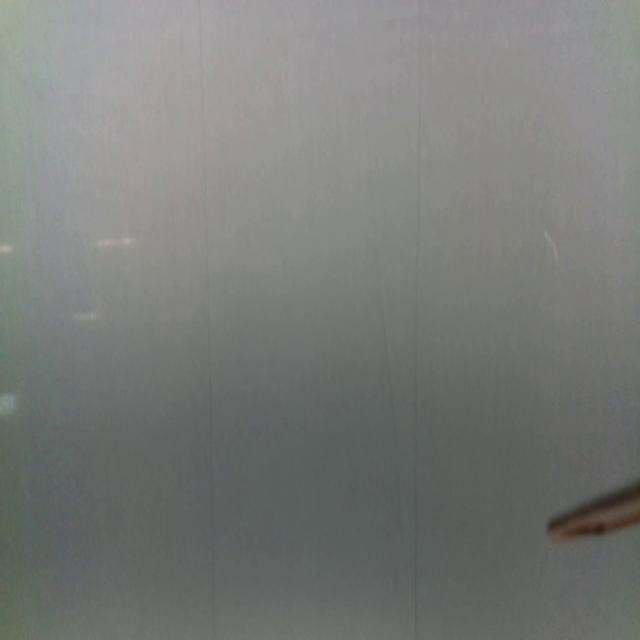crease: (194, 1, 215, 640), (411, 0, 422, 639), (376, 262, 398, 429)
